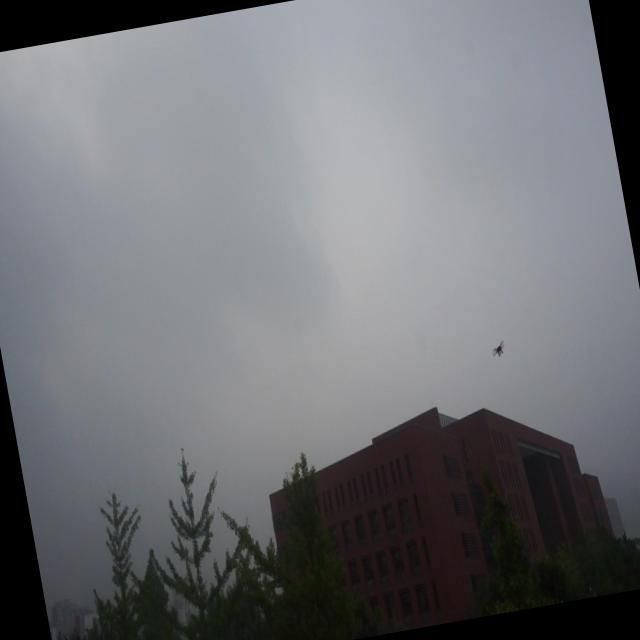drone: (488, 336, 508, 362)
